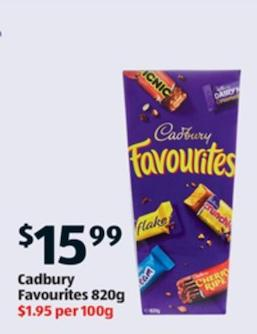description_block: (7, 270, 127, 305)
price_main: (6, 208, 123, 269)
product_image_block: (107, 61, 245, 321)
unit_price_block: (11, 303, 120, 322)
